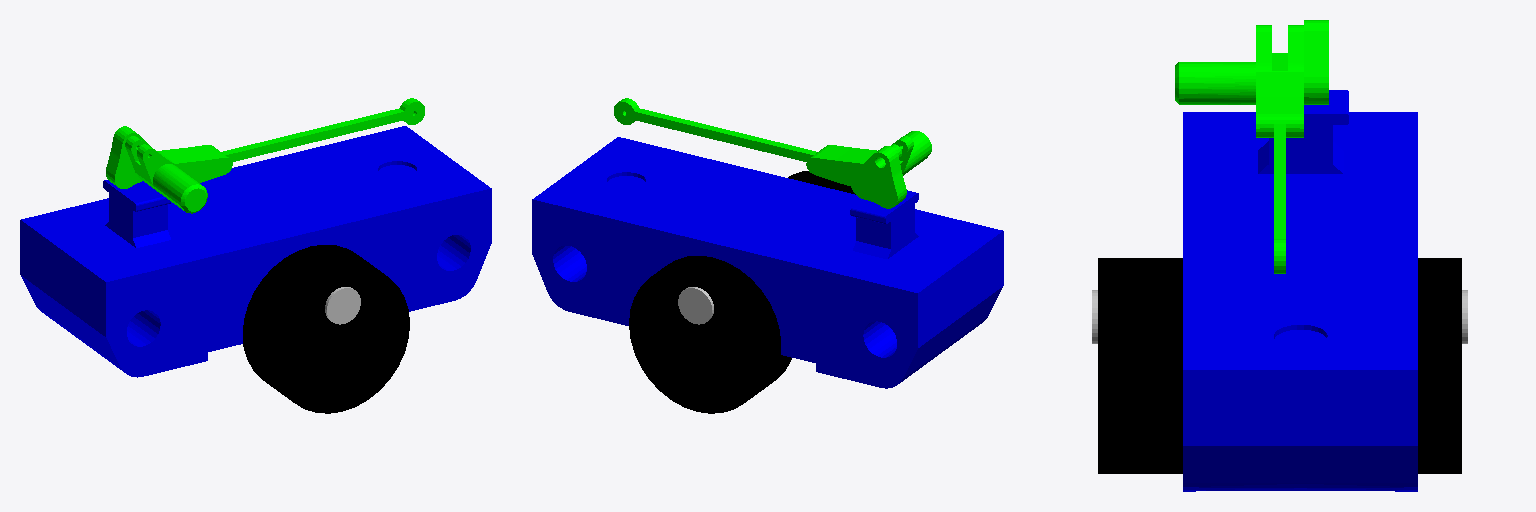
robot.urdf — rescue:
<?xml version="1.0" ?>
<robot name="rescue">

<!-- MATERIALS -->

<material name="body">
    <color rgba="0 0 1 1"/>
</material>
<material name="flipper">
    <color rgba="0 0.8 1 1"/>
</material>
<material name="track">
    <color rgba="0 0 0 1"/>
</material>
<material name="arm">
    <color rgba="0 1 0 1"/>
</material>
<material name="wrist">
    <color rgba="1 1 0 1"/>
</material>
<material name="gripper">
    <color rgba="1 1 1 1"/>
</material>


<!-- BASE LINK -->

<link name="base_link">
</link>

<joint name="body_offset" type="fixed">
    <parent link="base_link"/>
    <child link="main_body"/>
    <origin rpy="1.57075 0 0" xyz="-0.105 -0.17 0.15"/>
</joint>

<virtual_joint name="virtual_joint" type="floating" parent_frame="world" child_link="base_link" />

<!-- MAIN LINKS -->

<link name="main_body">
<inertial>
    <origin rpy="0 0 0" xyz="0.1369947223925939 -0.021581774511420574 -0.14958294306540101"/>
    <mass value="125.39802798594614"/>
    <inertia ixx="0.710702" ixy="0.02898" ixz="-0.000172" iyy="3.591341" iyz="0.000124" izz="3.324467"/>
</inertial>
<visual>
    <origin rpy="0 0 0" xyz="0 0 0"/>
    <geometry>
        <mesh filename="package://rescue_control/meshes/base_link_m-binary.stl"/>
    </geometry>
    <material name="body"/>
</visual>
<collision>
    <origin rpy="0 0 0" xyz="0 0 0"/>
    <geometry>
        <mesh filename="package://rescue_control/meshes/base_link_m-binary.stl"/>
    </geometry>
</collision>
</link>

<link name="right_belt_1">
<inertial>
    <origin rpy="0 0 0" xyz="0.2274393279397699 -0.0023271884830684056 0.02560355466628348"/>
    <mass value="50.63722379743233"/>
    <inertia ixx="0.196333" ixy="-0.0" ixz="0.0" iyy="1.451152" iyz="-7.1e-05" izz="1.62557"/>
</inertial>
<visual>
    <origin rpy="0 0 0" xyz="0.088054 0.032677 0.040824"/>
    <geometry>
        <mesh filename="package://rescue_control/meshes/right_belt_1_m-binary.stl"/>
    </geometry>
    <material name="body"/>
</visual>
<collision>
    <origin rpy="0 0 0" xyz="0.088054 0.032677 0.040824"/>
    <geometry>
        <mesh filename="package://rescue_control/meshes/right_belt_1_m-binary.stl"/>
    </geometry>
</collision>
</link>

<link name="left_belt_1">
<inertial>
    <origin rpy="0 0 0" xyz="0.22743932793985763 -0.0023271884830684333 -0.025604262848056003"/>
    <mass value="50.637223797432235"/>
    <inertia ixx="0.196333" ixy="-0.0" ixz="-0.0" iyy="1.451152" iyz="7.1e-05" izz="1.62557"/>
</inertial>
<visual>
    <origin rpy="0 0 0" xyz="0.088054 0.032677 0.258325"/>
    <geometry>
        <mesh filename="package://rescue_control/meshes/left_belt_1_m-binary.stl"/>
    </geometry>
    <material name="body"/>
</visual>
<collision>
    <origin rpy="0 0 0" xyz="0.088054 0.032677 0.258325"/>
    <geometry>
        <mesh filename="package://rescue_control/meshes/left_belt_1_m-binary.stl"/>
    </geometry>
</collision>
</link>

<link name="flipper_rear_right_1">
<inertial>
    <origin rpy="0 0 0" xyz="3.2778283322321133e-07 0.06327871028916665 0.01769212212798793"/>
    <mass value="11.639210054919547"/>
    <inertia ixx="0.081135" ixy="-0.0" ixz="-0.0" iyy="0.020636" iyz="3.3e-05" izz="0.099255"/>
</inertial>
<visual>
    <origin rpy="0 0 0" xyz="0.088054 0.032677 -0.014176"/>
    <geometry>
        <mesh filename="package://rescue_control/meshes/flipper_rear_right_1_m-binary.stl"/>
    </geometry>
    <material name="flipper"/>
</visual>
<collision>
    <origin rpy="0 0 0" xyz="0 0 0.025"/>
    <geometry>
        <cylinder length="0.05" radius="0.24"/>
    </geometry>
</collision>
</link>

<link name="flipper_front_right_1">
<inertial>
    <origin rpy="0 0 0" xyz="3.2778284914103395e-07 0.06327871028916543 0.017692122127987514"/>
    <mass value="11.639210054919547"/>
    <inertia ixx="0.081135" ixy="-0.0" ixz="-0.0" iyy="0.020636" iyz="3.3e-05" izz="0.099255"/>
</inertial>
<visual>
    <origin rpy="0 0 0" xyz="-0.366824 0.032677 -0.014176"/>
    <geometry>
        <mesh filename="package://rescue_control/meshes/flipper_front_right_1_m-binary.stl"/>
    </geometry>
    <material name="flipper"/>
</visual>
<collision>
    <origin rpy="0 0 0" xyz="0 0 0.025"/>
    <geometry>
        <cylinder length="0.05" radius="0.24"/>
    </geometry>
</collision>
</link>

<link name="flipper_rear_left_1">
<inertial>
    <origin rpy="0 0 0" xyz="3.2778283412526754e-07 0.0632787102891666 -0.017692830309759933"/>
    <mass value="11.639210054919547"/>
    <inertia ixx="0.081135" ixy="-0.0" ixz="0.0" iyy="0.020636" iyz="-3.3e-05" izz="0.099255"/>
</inertial>
<visual>
    <origin rpy="0 0 0" xyz="0.088054 0.032677 0.313325"/>
    <geometry>
        <mesh filename="package://rescue_control/meshes/flipper_rear_left_1_m-binary.stl"/>
    </geometry>
    <material name="flipper"/>
</visual>
<collision>
    <origin rpy="0 0 0" xyz="0 0 -0.025"/>
    <geometry>
        <cylinder length="0.05" radius="0.24"/>
    </geometry>
</collision>
</link>

<link name="flipper_front_left_1">
<inertial>
    <origin rpy="0 0 0" xyz="3.277828503622793e-07 0.06327871028916549 -0.017692830309760266"/>
    <mass value="11.639210054919547"/>
    <inertia ixx="0.081135" ixy="-0.0" ixz="-0.0" iyy="0.020636" iyz="-3.3e-05" izz="0.099255"/>
</inertial>
<visual>
    <origin rpy="0 0 0" xyz="-0.366824 0.032677 0.313325"/>
    <geometry>
        <mesh filename="package://rescue_control/meshes/flipper_front_left_1_m-binary.stl"/>
    </geometry>
    <material name="flipper"/>
</visual>
<collision>
    <origin rpy="0 0 0" xyz="0 0 -0.025"/>
    <geometry>
        <cylinder length="0.05" radius="0.24"/>
    </geometry>
</collision>
</link>

<link name="arm_base_1">
<inertial>
    <origin rpy="0 0 0" xyz="0.001525222896111067 0.03697199468806295 -0.009123346610961841"/>
    <mass value="9.318674950833845"/>
    <inertia ixx="0.020384" ixy="-0.000132" ixz="-0.000105" iyy="0.026478" iyz="-4.7e-05" izz="0.017031"/>
</inertial>
<visual>
    <origin rpy="0 0 0" xyz="-0.346824 -0.044823 0.149575"/>
    <geometry>
        <mesh filename="package://rescue_control/meshes/arm_base_1_m-binary.stl"/>
    </geometry>
    <material name="arm"/>
</visual>
<collision>
    <origin rpy="0 0 0" xyz="-0.346824 -0.044823 0.149575"/>
    <geometry>
        <mesh filename="package://rescue_control/meshes/arm_base_1_m-binary.stl"/>
    </geometry>
</collision>
</link>

<link name="arm_lower_1">
<inertial>
    <origin rpy="0 0 0" xyz="-0.3351498947929346 0.004913256877447342 0.012839753617028188"/>
    <mass value="3.211993258458033"/>
    <inertia ixx="0.004374" ixy="0.00084" ixz="0.000477" iyy="0.029637" iyz="0.000198" izz="0.026449"/>
</inertial>
<visual>
    <origin rpy="0 0 0" xyz="-0.332393 -0.133016 0.155575"/>
    <geometry>
        <mesh filename="package://rescue_control/meshes/arm_lower_1_m-binary.stl"/>
    </geometry>
    <material name="arm"/>
</visual>
<collision>
    <origin rpy="0 0 0" xyz="-0.332393 -0.133016 0.155575"/>
    <geometry>
        <mesh filename="package://rescue_control/meshes/arm_lower_1_m-binary.stl"/>
    </geometry>
</collision>
</link>

<link name="arm_upper_1">
<inertial>
    <origin rpy="0 0 0" xyz="0.22451229866972153 1.2826183065084429e-05 0.006000145475138247"/>
    <mass value="1.1170241298535344"/>
    <inertia ixx="0.000146" ixy="0.0" ixz="-0.0" iyy="0.010141" iyz="0.0" izz="0.01012"/>
</inertial>
<visual>
    <origin rpy="0 0 0" xyz="0.06563 -0.172839 0.155575"/>
    <geometry>
        <mesh filename="package://rescue_control/meshes/arm_upper_1_m-binary.stl"/>
    </geometry>
    <material name="arm"/>
</visual>
<collision>
    <origin rpy="0 0 0" xyz="0.06563 -0.172839 0.155575"/>
    <geometry>
        <mesh filename="package://rescue_control/meshes/arm_upper_1_m-binary.stl"/>
    </geometry>
</collision>
</link>

<link name="wrist_yaw_1">
<inertial>
    <origin rpy="0 0 0" xyz="0.044415907076879035 4.603974835148961e-05 0.019000145475138813"/>
    <mass value="0.5097860192503678"/>
    <inertia ixx="0.000112" ixy="-0.0" ixz="-0.0" iyy="0.000264" iyz="0.0" izz="0.000208"/>
</inertial>
<visual>
    <origin rpy="0 0 0" xyz="-0.25005 -0.172881 0.168575"/>
    <geometry>
        <mesh filename="package://rescue_control/meshes/wrist_yaw_1_m-binary.stl"/>
    </geometry>
    <material name="wrist"/>
</visual>
<collision>
    <origin rpy="0 0 0" xyz="-0.25005 -0.172881 0.168575"/>
    <geometry>
        <mesh filename="package://rescue_control/meshes/wrist_yaw_1_m-binary.stl"/>
    </geometry>
</collision>
</link>

<link name="wrist_pitch_1">
<inertial>
    <origin rpy="0 0 0" xyz="0.03737396067285109 -0.00611105089439154 1.454751508700447e-07"/>
    <mass value="0.39341698942281567"/>
    <inertia ixx="0.000118" ixy="-1.1e-05" ixz="-0.0" iyy="9.8e-05" iyz="0.0" izz="0.000176"/>
</inertial>
<visual>
    <origin rpy="0 0 0" xyz="-0.306585 -0.18744 0.149575"/>
    <geometry>
        <mesh filename="package://rescue_control/meshes/wrist_pitch_1_m-binary.stl"/>
    </geometry>
    <material name="wrist"/>
</visual>
<collision>
    <origin rpy="0 0 0" xyz="-0.306585 -0.18744 0.149575"/>
    <geometry>
        <mesh filename="package://rescue_control/meshes/wrist_pitch_1_m-binary.stl"/>
    </geometry>
</collision>
</link>

<link name="gripper_1">
<inertial>
    <origin rpy="0 0 0" xyz="0.02583352563736202 2.6583970817339875e-05 4.924067290301704e-07"/>
    <mass value="1.7001261051527197"/>
    <inertia ixx="0.004444" ixy="-0.0" ixz="-0.0" iyy="0.004742" iyz="-0.0" izz="0.001496"/>
</inertial>
<visual>
    <origin rpy="0 0 0" xyz="-0.3656 -0.173002 0.149575"/>
    <geometry>
        <mesh filename="package://rescue_control/meshes/gripper_1_m-binary.stl"/>
    </geometry>
    <material name="gripper"/>
</visual>
<collision>
    <origin rpy="0 0 0" xyz="-0.3656 -0.173002 0.149575"/>
    <geometry>
        <mesh filename="package://rescue_control/meshes/gripper_1_m-binary.stl"/>
    </geometry>
</collision>
</link>



<!-- PLACEHOLDER LINKS - TRACKS (and their joints) -->

<link name="track_right">
<inertial>
    <origin rpy="0 0 0" xyz="0 0 0"/>
    <mass value="1"/>
    <inertia ixx="0.01" ixy="0" ixz="0" iyy="0.01" iyz="0" izz="0.04"/>
</inertial>
<visual>
    <origin rpy="0 0 0" xyz="0 0 -0.04"/>
    <geometry>
        <cylinder radius="0.1" length="0.08"/>
    </geometry>
    <material name="track"/>
</visual>
<visual>
    <origin rpy="0 0 0" xyz="0 0.05 -0.04"/>
    <geometry>
        <cylinder radius="0.025" length="0.09"/>
    </geometry>
    <material name="track_indicator">
        <color rgba="0.8 0.8 0.8 1"/>
    </material>
</visual>
<collision>
    <origin rpy="0 0 0" xyz="0 0 -0.04"/>
    <geometry>
        <cylinder radius="0.1" length="0.08"/>
    </geometry>
</collision>
</link>

<joint name="track_right" type="revolute">
    <origin rpy="0 0 0" xyz="0.22 -0.04 0.06"/>
    <parent link="right_belt_1"/>
    <child link="track_right"/>
    <axis xyz="0 0 -1"/>
    <limit effort="100" lower="-1.570796" upper="3.316126" velocity="100"/>
</joint>
<transmission name="track_right_tran">
    <type>transmission_interface/SimpleTransmission</type>
    <joint name="track_right">
        <hardwareInterface>VelocityJointInterface</hardwareInterface>
    </joint>
    <actuator name="track_right_actr">
        <hardwareInterface>VelocityJointInterface</hardwareInterface>
        <mechanicalReduction>1</mechanicalReduction>
    </actuator>
</transmission>

<link name="track_left">
<inertial>
    <origin rpy="0 0 0" xyz="0 0 0"/>
    <mass value="1"/>
    <inertia ixx="0.01" ixy="0" ixz="0" iyy="0.01" iyz="0" izz="0.04"/>
</inertial>
<visual>
    <origin rpy="0 0 0" xyz="0 0 0.04"/>
    <geometry>
        <cylinder radius="0.1" length="0.08"/>
    </geometry>
    <material name="track"/>
</visual>
<visual>
    <origin rpy="0 0 0" xyz="0 0.05 0.04"/>
    <geometry>
        <cylinder radius="0.025" length="0.09"/>
    </geometry>
    <material name="track_indicator">
        <color rgba="0.8 0.8 0.8 1"/>
    </material>
</visual>
<collision>
    <origin rpy="0 0 0" xyz="0 0 0.04"/>
    <geometry>
        <cylinder radius="0.1" length="0.08"/>
    </geometry>
</collision>
</link>

<joint name="track_left" type="revolute">
    <origin rpy="0 0 0" xyz="0.22 -0.04 -0.06"/>
    <parent link="left_belt_1"/>
    <child link="track_left"/>
    <axis xyz="0 0 -1"/>
    <limit effort="100" lower="-1.570796" upper="3.316126" velocity="100"/>
</joint>
<transmission name="track_left_tran">
    <type>transmission_interface/SimpleTransmission</type>
    <joint name="track_left">
        <hardwareInterface>VelocityJointInterface</hardwareInterface>
    </joint>
    <actuator name="track_left_actr">
        <hardwareInterface>VelocityJointInterface</hardwareInterface>
        <mechanicalReduction>1</mechanicalReduction>
    </actuator>
</transmission>


<!-- JOINTS -->

<joint name="Rigid1" type="fixed">
    <origin rpy="0 0 0" xyz="-0.088054 -0.032677 -0.040824"/>
    <parent link="main_body"/>
    <child link="right_belt_1"/>
</joint>

<joint name="Rigid2" type="fixed">
    <origin rpy="0 0 0" xyz="-0.088054 -0.032677 -0.258325"/>
    <parent link="main_body"/>
    <child link="left_belt_1"/>
</joint>

<joint name="flippers_rear" type="revolute">
    <origin rpy="0 0 0" xyz="0.0 0.0 0.055"/>
    <parent link="right_belt_1"/>
    <child link="flipper_rear_right_1"/>
    <axis xyz="0.0 0.0 0.01"/>
    <limit effort="100" lower="-1.570796" upper="3.316126" velocity="100"/>
</joint>

<transmission name="flippers_rear_tran">
    <type>transmission_interface/SimpleTransmission</type>
    <joint name="flippers_rear">
        <hardwareInterface>VelocityJointInterface</hardwareInterface>
    </joint>
    <actuator name="flippers_rear_actr">
        <hardwareInterface>VelocityJointInterface</hardwareInterface>
        <mechanicalReduction>1</mechanicalReduction>
    </actuator>
</transmission>

<joint name="flippers_front" type="revolute">
    <origin rpy="0 0 0" xyz="0.454878 0.0 0.055"/>
    <parent link="right_belt_1"/>
    <child link="flipper_front_right_1"/>
    <axis xyz="0.0 0.0 0.01"/>
    <limit effort="100" lower="-3.316126" upper="1.570796" velocity="100"/>
</joint>

<transmission name="flippers_front_tran">
    <type>transmission_interface/SimpleTransmission</type>
    <joint name="flippers_front">
        <hardwareInterface>VelocityJointInterface</hardwareInterface>
    </joint>
    <actuator name="flippers_front_actr">
        <hardwareInterface>VelocityJointInterface</hardwareInterface>
        <mechanicalReduction>1</mechanicalReduction>
    </actuator>
</transmission>

<joint name="Rigid5" type="fixed">
    <origin rpy="0 0 0" xyz="0.0 0.0 -0.327501"/>
    <parent link="flipper_rear_right_1"/>
    <child link="flipper_rear_left_1"/>
</joint>

<joint name="Rigid6" type="fixed">
    <origin rpy="0 0 0" xyz="0.0 0.0 -0.327501"/>
    <parent link="flipper_front_right_1"/>
    <child link="flipper_front_left_1"/>
</joint>

<joint name="arm1" type="revolute">
    <origin rpy="0 0 0" xyz="0.346824 0.044823 -0.149575"/>
    <parent link="main_body"/>
    <child link="arm_base_1"/>
    <axis xyz="-0.0 -0.01 -0.0"/>
    <limit effort="100" lower="-2.356194" upper="2.356194" velocity="100"/>
</joint>

<transmission name="arm1_tran">
    <type>transmission_interface/SimpleTransmission</type>
    <joint name="arm1">
        <hardwareInterface>PositionJointInterface</hardwareInterface>
    </joint>
    <actuator name="arm1_actr">
        <hardwareInterface>PositionJointInterface</hardwareInterface>
        <mechanicalReduction>1</mechanicalReduction>
    </actuator>
</transmission>

<joint name="arm2" type="revolute">
    <origin rpy="0 0 0" xyz="-0.014431 0.088193 -0.006"/>
    <parent link="arm_base_1"/>
    <child link="arm_lower_1"/>
    <axis xyz="0.0 0.0 0.01"/>
    <limit effort="100" lower="-3.141593" upper="0.0" velocity="100"/>
</joint>

<transmission name="arm2_tran">
    <type>transmission_interface/SimpleTransmission</type>
    <joint name="arm2">
        <hardwareInterface>PositionJointInterface</hardwareInterface>
    </joint>
    <actuator name="arm2_actr">
        <hardwareInterface>PositionJointInterface</hardwareInterface>
        <mechanicalReduction>1</mechanicalReduction>
    </actuator>
</transmission>

<joint name="arm3" type="revolute">
    <origin rpy="0 0 0" xyz="-0.398023 0.039823 0.0"/>
    <parent link="arm_lower_1"/>
    <child link="arm_upper_1"/>
    <axis xyz="0.0 -0.0 0.01"/>
    <limit effort="100" lower="0.0" upper="3.141593" velocity="100"/>
</joint>

<transmission name="arm3_tran">
    <type>transmission_interface/SimpleTransmission</type>
    <joint name="arm3">
        <hardwareInterface>PositionJointInterface</hardwareInterface>
    </joint>
    <actuator name="arm3_actr">
        <hardwareInterface>PositionJointInterface</hardwareInterface>
        <mechanicalReduction>1</mechanicalReduction>
    </actuator>
</transmission>

<joint name="wrist1" type="continuous">
    <origin rpy="0 0 0" xyz="0.31568 4.2e-05 -0.013"/>
    <parent link="arm_upper_1"/>
    <child link="wrist_yaw_1"/>
    <axis xyz="0.0 0.0 0.01"/>
</joint>

<transmission name="wrist1_tran">
    <type>transmission_interface/SimpleTransmission</type>
    <joint name="wrist1">
        <hardwareInterface>PositionJointInterface</hardwareInterface>
    </joint>
    <actuator name="wrist1_actr">
        <hardwareInterface>PositionJointInterface</hardwareInterface>
        <mechanicalReduction>1</mechanicalReduction>
    </actuator>
</transmission>

<joint name="wrist2" type="continuous">
    <origin rpy="0 0 0" xyz="0.056535 0.014559 0.019"/>
    <parent link="wrist_yaw_1"/>
    <child link="wrist_pitch_1"/>
    <axis xyz="1e-05 -0.01 -0.0"/>
</joint>

<transmission name="wrist2_tran">
    <type>transmission_interface/SimpleTransmission</type>
    <joint name="wrist2">
        <hardwareInterface>PositionJointInterface</hardwareInterface>
    </joint>
    <actuator name="wrist2_actr">
    <hardwareInterface>PositionJointInterface</hardwareInterface>
    <mechanicalReduction>1</mechanicalReduction>
    </actuator>
</transmission>
<joint name="wrist3" type="continuous">
    <origin rpy="0 0 0" xyz="0.059015 -0.014438 0.0"/>
    <parent link="wrist_pitch_1"/>
    <child link="gripper_1"/>
    <axis xyz="0.01 1e-05 -0.0"/>
</joint>

<transmission name="wrist3_tran">
    <type>transmission_interface/SimpleTransmission</type>
    <joint name="wrist3">
    <hardwareInterface>PositionJointInterface</hardwareInterface>
    </joint>
    <actuator name="wrist3_actr">
    <hardwareInterface>PositionJointInterface</hardwareInterface>
    <mechanicalReduction>1</mechanicalReduction>
    </actuator>
</transmission>

<gazebo>
<plugin filename="libgazebo_ros_control.so" name="control"/>
</gazebo>

</robot>

--- Render facts (derived) ---
3 views of the same robot in one strip: view 1: azimuth 30°, elevation 25°; view 2: azimuth 150°, elevation 25°; view 3: azimuth 270°, elevation 25° (orthographic).
Robot: rescue — 16 links, 15 joints (7 revolute, 3 continuous, 5 fixed); root link base_link; default pose: every joint at zero.
Links seen in each view (by area): view 1: main_body, track_right, arm_lower_1; view 2: main_body, track_left, arm_lower_1, track_right; view 3: main_body, track_right, arm_lower_1, track_left.
Boxes of the visible links, left/top/right/bottom form: main_body: left=20, top=126, right=491, bottom=377; track_right: left=243, top=245, right=409, bottom=413; arm_lower_1: left=106, top=98, right=424, bottom=213; main_body: left=532, top=137, right=1003, bottom=388; track_left: left=629, top=256, right=791, bottom=413; arm_lower_1: left=614, top=98, right=931, bottom=208; track_right: left=788, top=171, right=855, bottom=194; main_body: left=1183, top=90, right=1417, bottom=491; track_right: left=1092, top=258, right=1182, bottom=473; arm_lower_1: left=1175, top=20, right=1328, bottom=273; track_left: left=1418, top=258, right=1467, bottom=473.
Bounding box of the posed robot: 0.5651 × 0.3475 × 0.3595 m (x, y, z).
2 mesh visuals loaded from 13 distinct referenced files (2 binary STL); not drawn: 11 (reference not matched to a file when rendering).